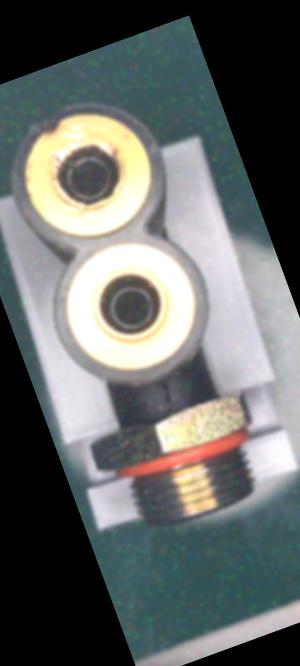bump: (20, 95, 77, 146)
craze: (151, 371, 182, 422)
